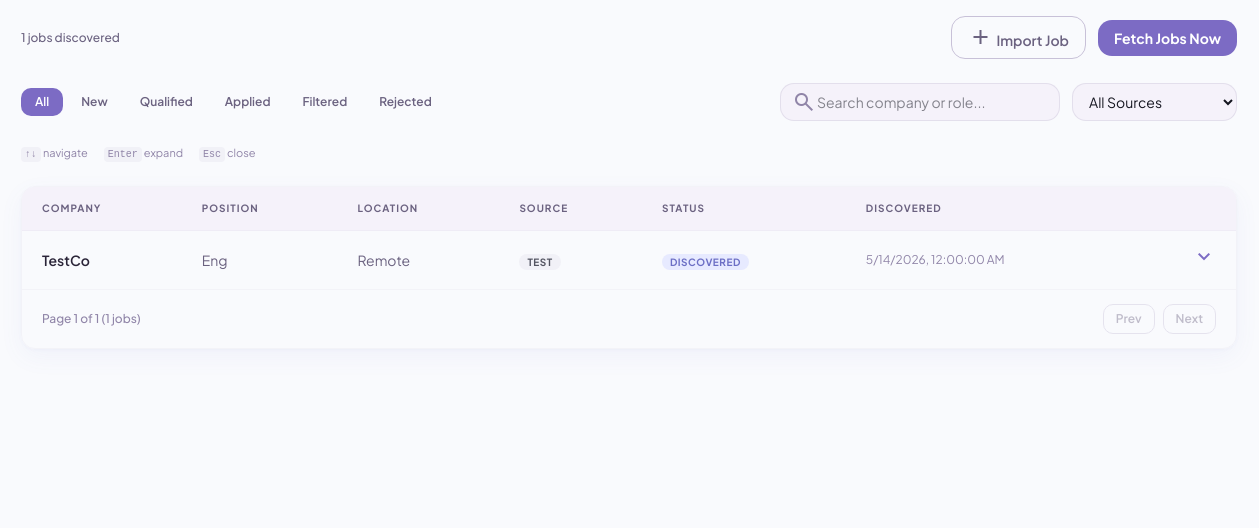
it: TailoredResumeCell NO_IMPROVEMENT verdict copy › renders the all-edits-dropped copy when review_reason is 'all_edits_dropped'
Click the text "TestCo".
click(66, 260)  # box [22,230,182,289]
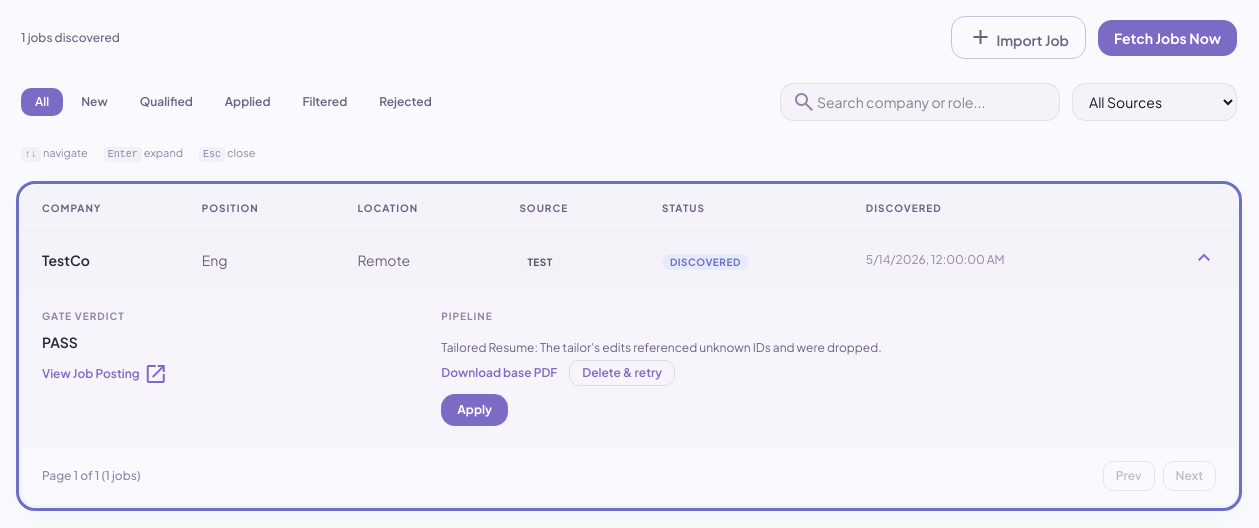
Check: the text "The tailor's edits referenced unknown IDs and were dropped." is shown, box [540,340,882,355]
